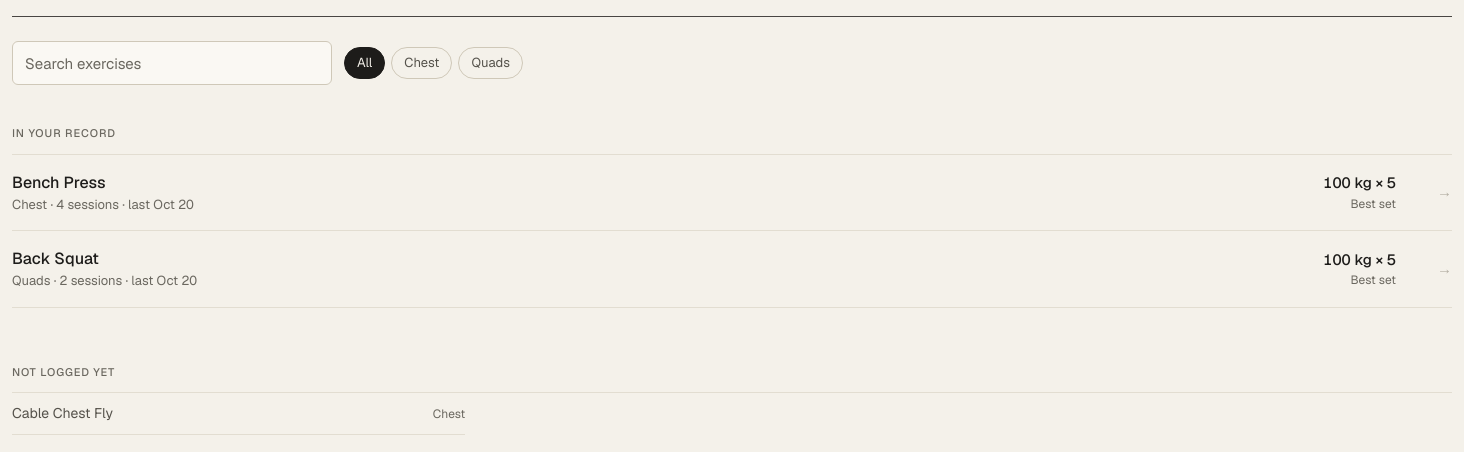
ExerciseIndex › splits trained from not-yet-logged and filters by search and muscle
The width and height of the screenshot is (1464, 452).
Expected: the heading "In your record" is shown, top-left (12, 126), bottom-right (116, 140)
Expected: the heading "Not logged yet" is shown, top-left (12, 364), bottom-right (115, 378)
Type "squat" into the search field at (172, 63), box top-left (12, 41), bottom-right (332, 85)
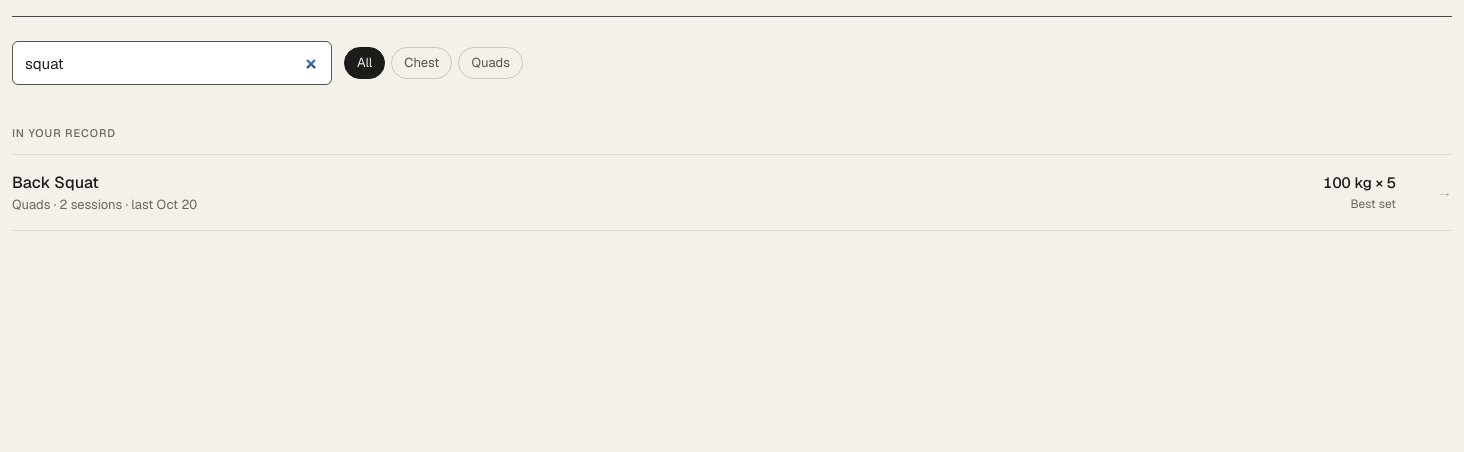
Expected: the text "Back Squat" is shown, top-left (12, 172), bottom-right (99, 192)
Expected: the link "Bench Press" is gone
Clear the search field at (172, 63), box top-left (12, 41), bottom-right (332, 85)
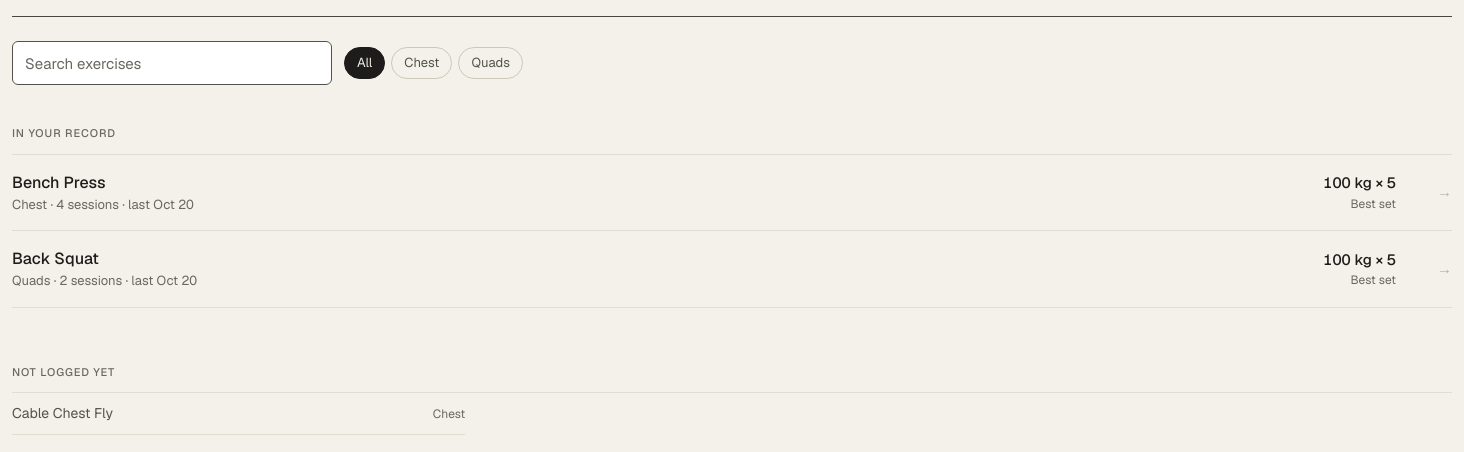
Click the button "Chest" at (422, 63), box top-left (391, 47), bottom-right (452, 79)
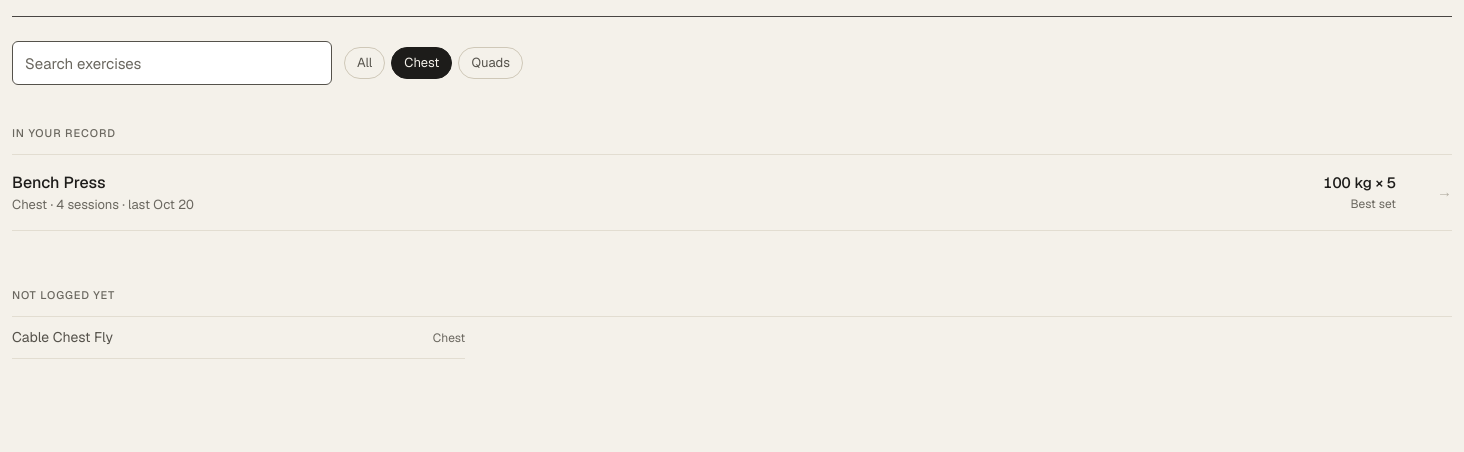
Expected: the text "Cable Chest Fly" is shown, top-left (12, 326), bottom-right (113, 348)
Expected: the link "Back Squat" is gone
